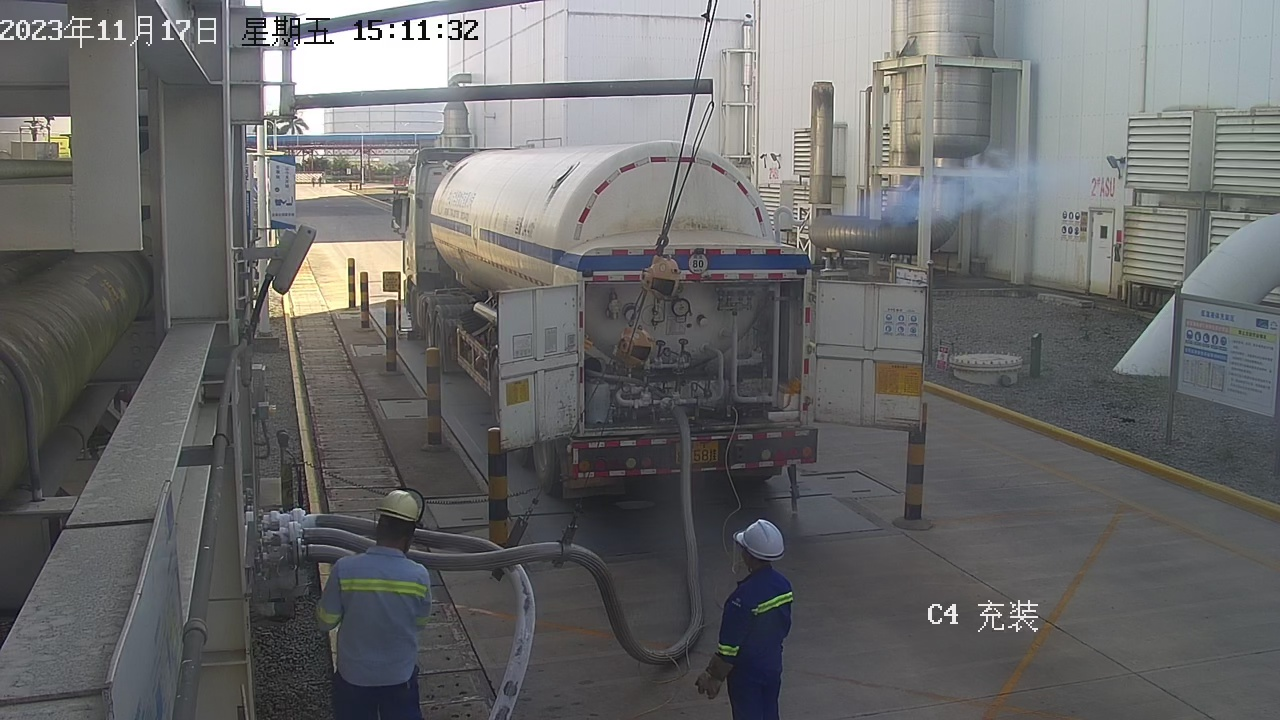Head_with_Helmet: (715, 508, 807, 579), (361, 482, 433, 550)
Uniform: (312, 533, 456, 720), (693, 557, 808, 720)
